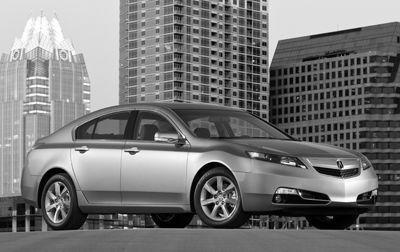car: (22, 101, 380, 235)
